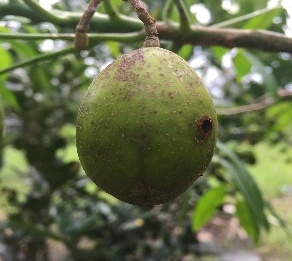Coc: (67, 50, 237, 218)
